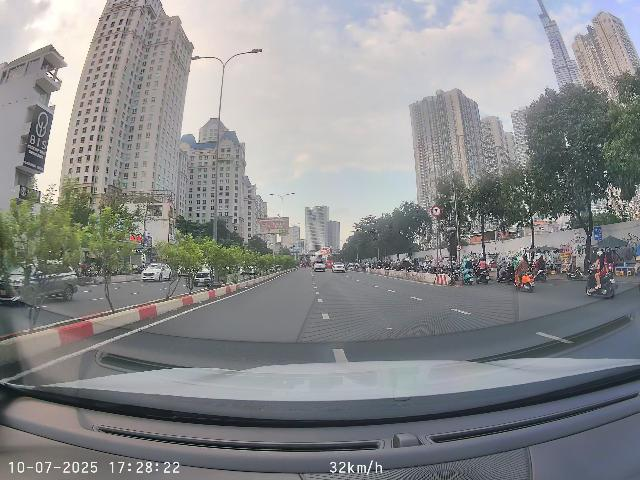127-toc-do-toi-da-60: (456, 245, 462, 251)
127-toc-do-toi-da-70: (431, 206, 442, 217)
